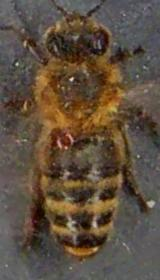varroa_mite: (53, 125, 80, 155)
